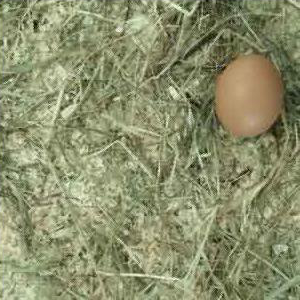egg: (215, 54, 285, 140)
